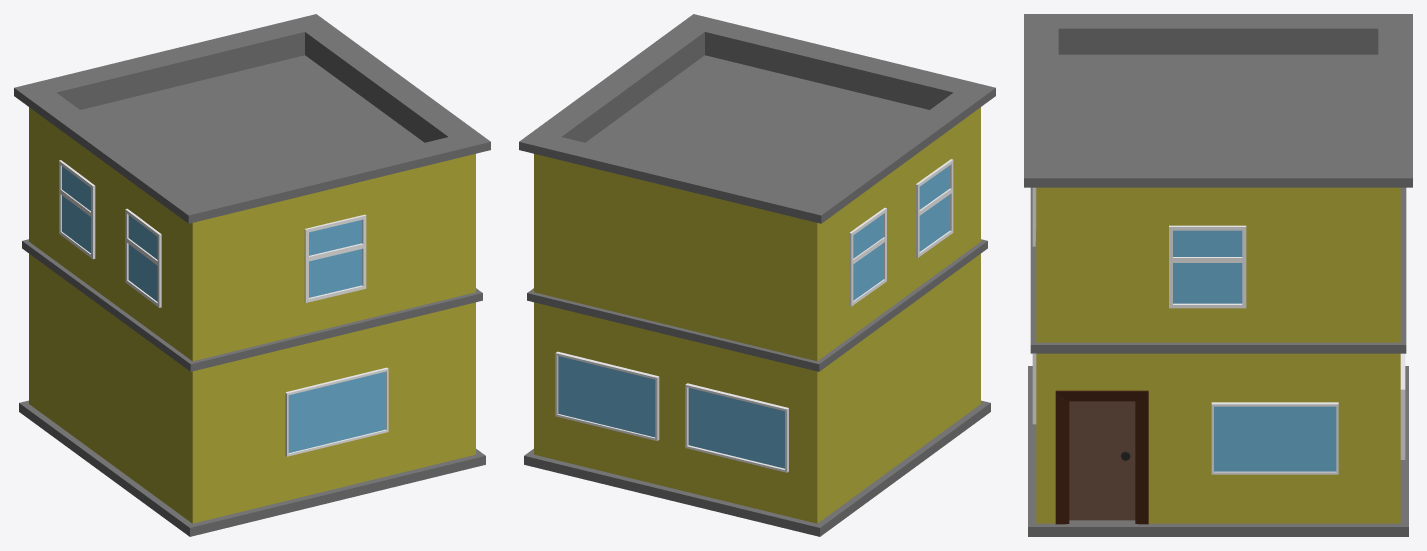
Rendered from Building_House1_Yellow.fbx.
The picture shows the model from 3 angles, left to right: view 1: azimuth 30°, elevation 25°; view 2: azimuth 150°, elevation 25°; view 3: azimuth 270°, elevation 25°; orthographic projection. The views are drawn at different scales.
Parts seen in each view (by area): view 1: Cube, Cylinder; view 2: Cube, Cylinder; view 3: Cube, Cylinder.
Part boxes in pixels (left/top/right/bottom): Cube: left=14, top=14, right=490, bottom=536; Cylinder: left=59, top=160, right=388, bottom=456; Cube: left=519, top=14, right=995, bottom=536; Cylinder: left=555, top=159, right=953, bottom=472; Cube: left=1024, top=14, right=1412, bottom=536; Cylinder: left=1032, top=187, right=1405, bottom=474.
Bounding box in the file's own units: 798 × 816 × 798.
